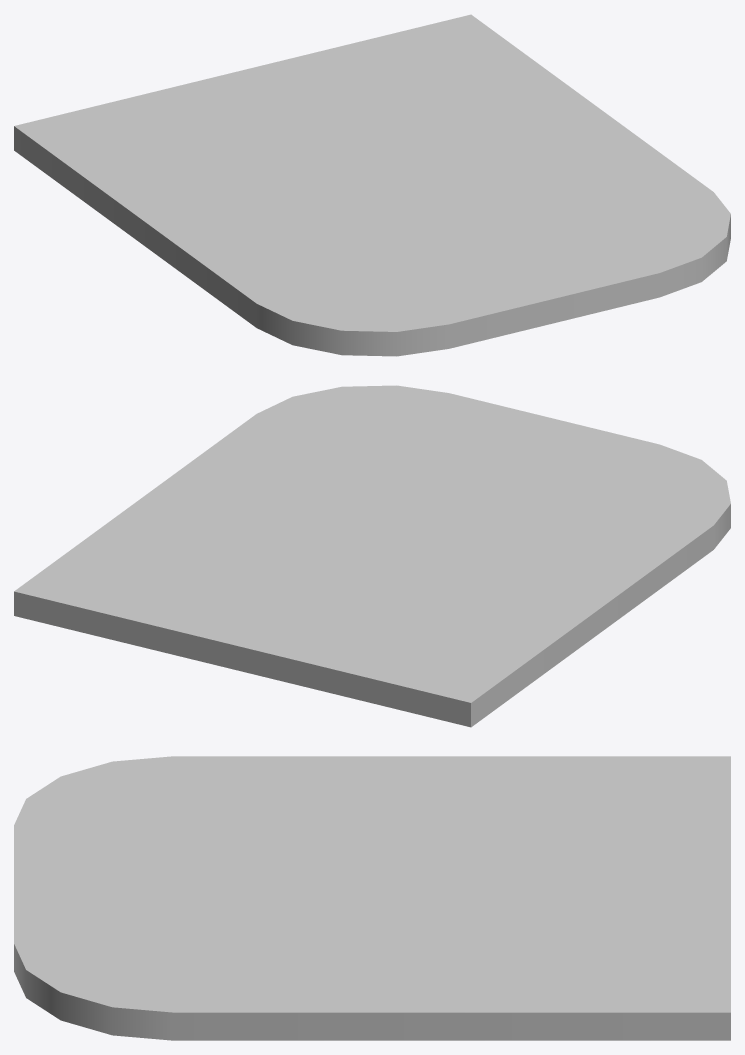
The model's file is Toilet1_C1_03.fbx.
3 views of the same model, one above another, from view 1: azimuth 30°, elevation 25°; view 2: azimuth 150°, elevation 25°; view 3: azimuth 270°, elevation 25° (orthographic). The views are drawn at different scales.
Visible parts, largest first — view 1: Toilet1_C1_03; view 2: Toilet1_C1_03; view 3: Toilet1_C1_03.
Part boxes in pixels (x1,y1,x2,y2): Toilet1_C1_03: [14, 14, 730, 356]; Toilet1_C1_03: [14, 385, 730, 727]; Toilet1_C1_03: [14, 756, 730, 1040].
Size of the model in its own units: 34.34 by 1.76 by 40.6.
